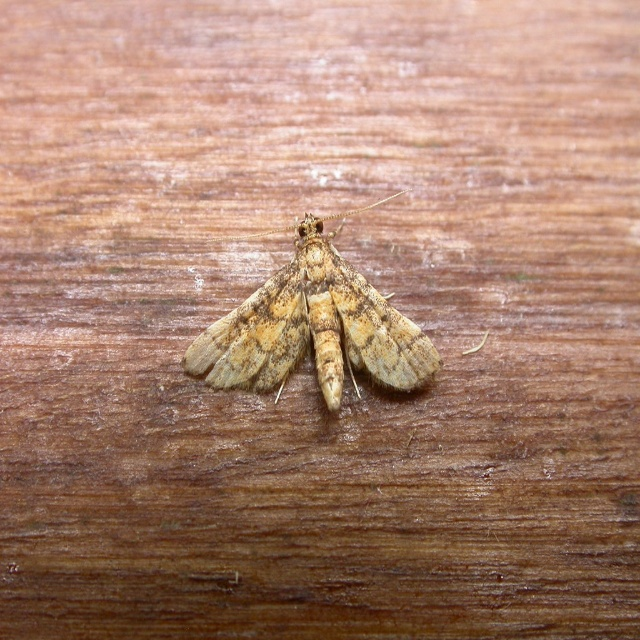Moths and butterflies: (178, 188, 445, 415)
